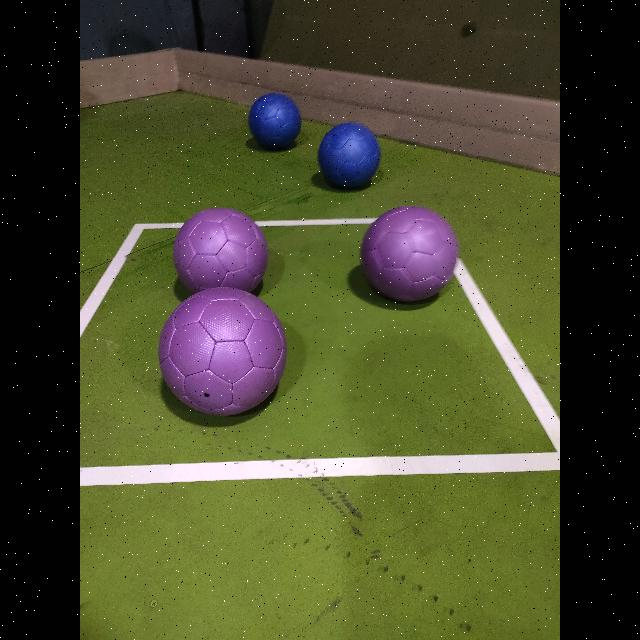B: (318, 122, 380, 188), (249, 93, 301, 149)
P: (158, 288, 286, 414), (362, 206, 458, 300), (174, 208, 268, 292)
